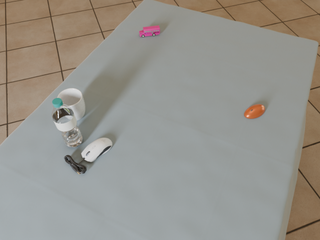bottle: (52, 98, 83, 148)
cup: (57, 88, 85, 120)
mouse: (82, 138, 112, 162), (244, 104, 265, 119)
toy_car: (139, 26, 160, 37)
